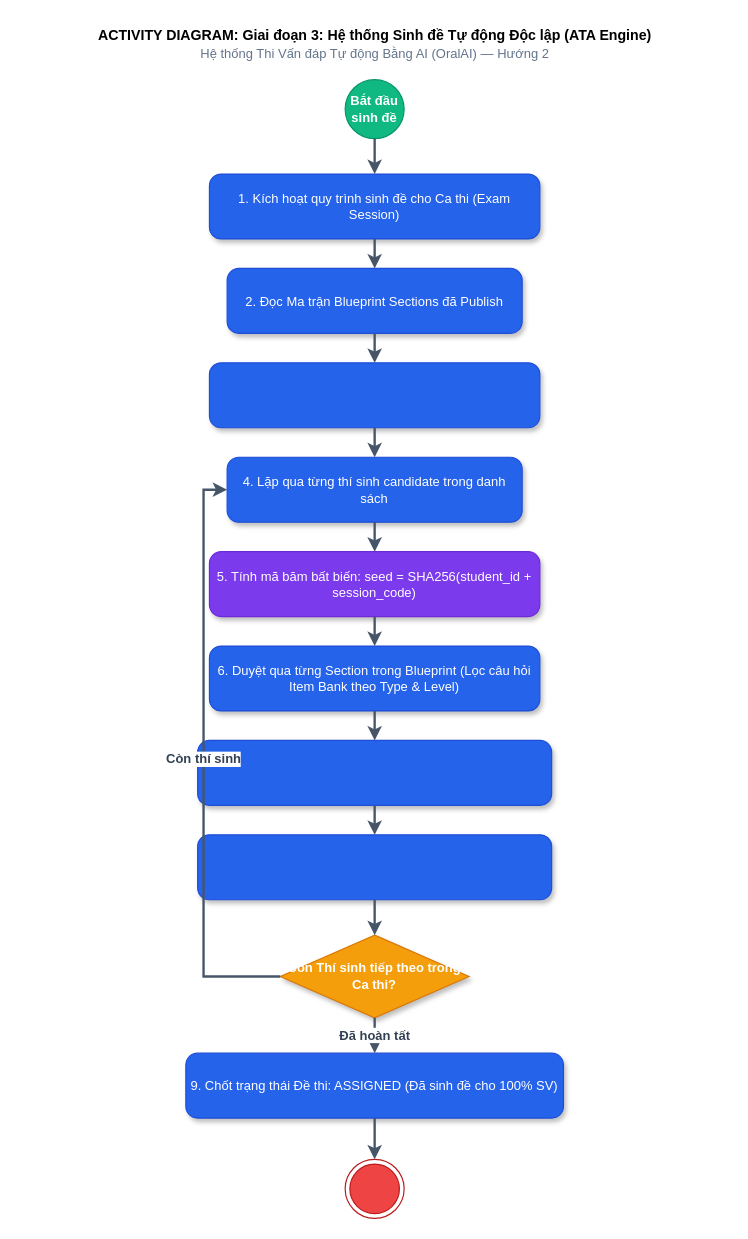
Image size: 748x1239. Some labels were removed from this diagram. Each missing label, with the centre of its shape:
3. Lấy danh sách Thí sinh trong ca (session_candidates): point 375,396
7. Dùng PRNG(seed) bốc ngẫu nhiên câu hỏi hợp lệ không trùng: point 375,774
8. Đóng gói Đề thi riêng biệt Exam Paper & Paper Questions: point 375,868
Hoàn thành GĐ 3 Đề thi sẵn sàng: point 374,1188
